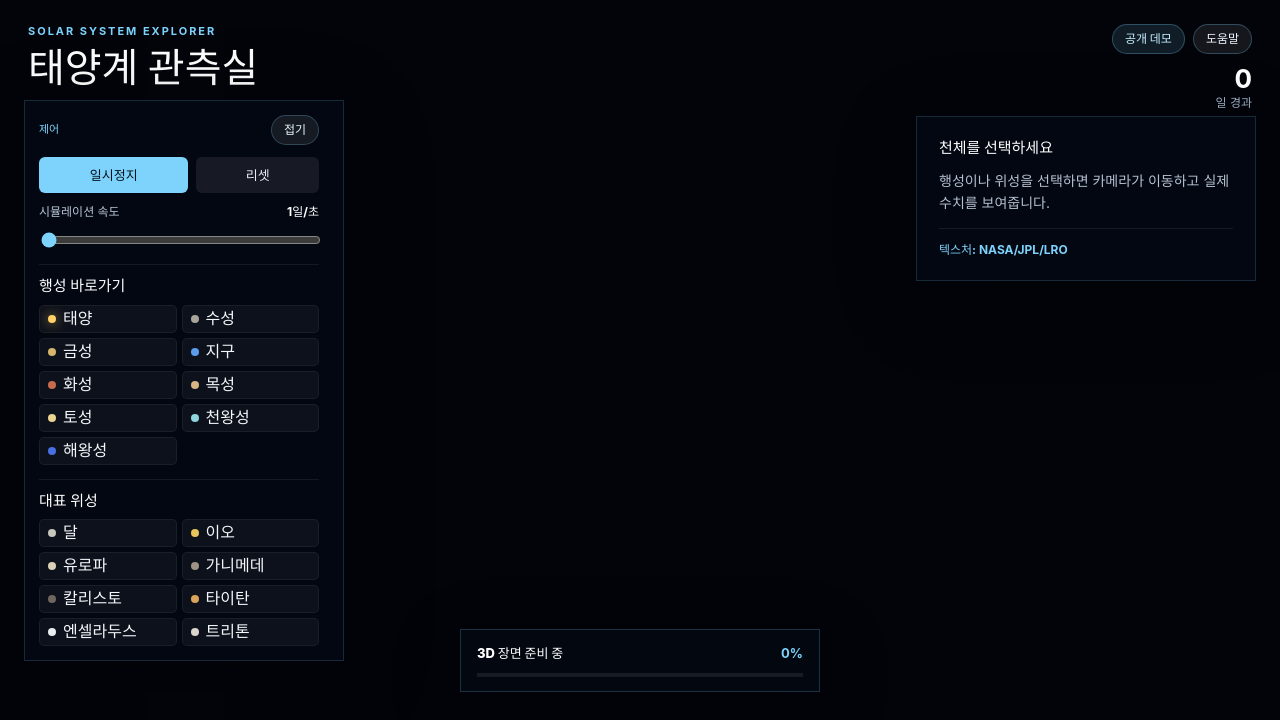
Scenario: App › updates the information panel when a planet is selected from the list
This screenshot has width=1280, height=720.
Click the button with aria-label "목성 선택" at coordinates (250, 385), box [182, 371, 319, 399]
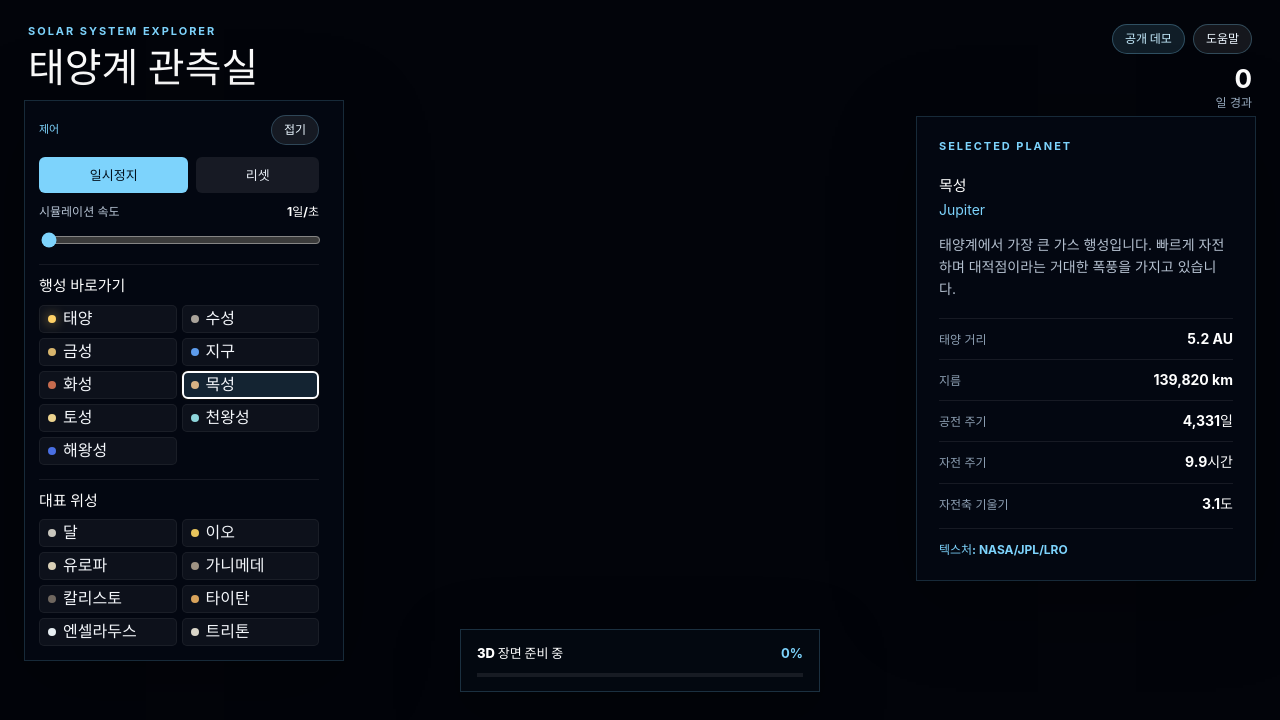
Now the heading "목성" is shown, box [939, 176, 967, 195]
Now the text "Jupiter" is shown, box [939, 201, 985, 218]
Now the text "공전 주기" is shown, box [939, 413, 986, 430]
